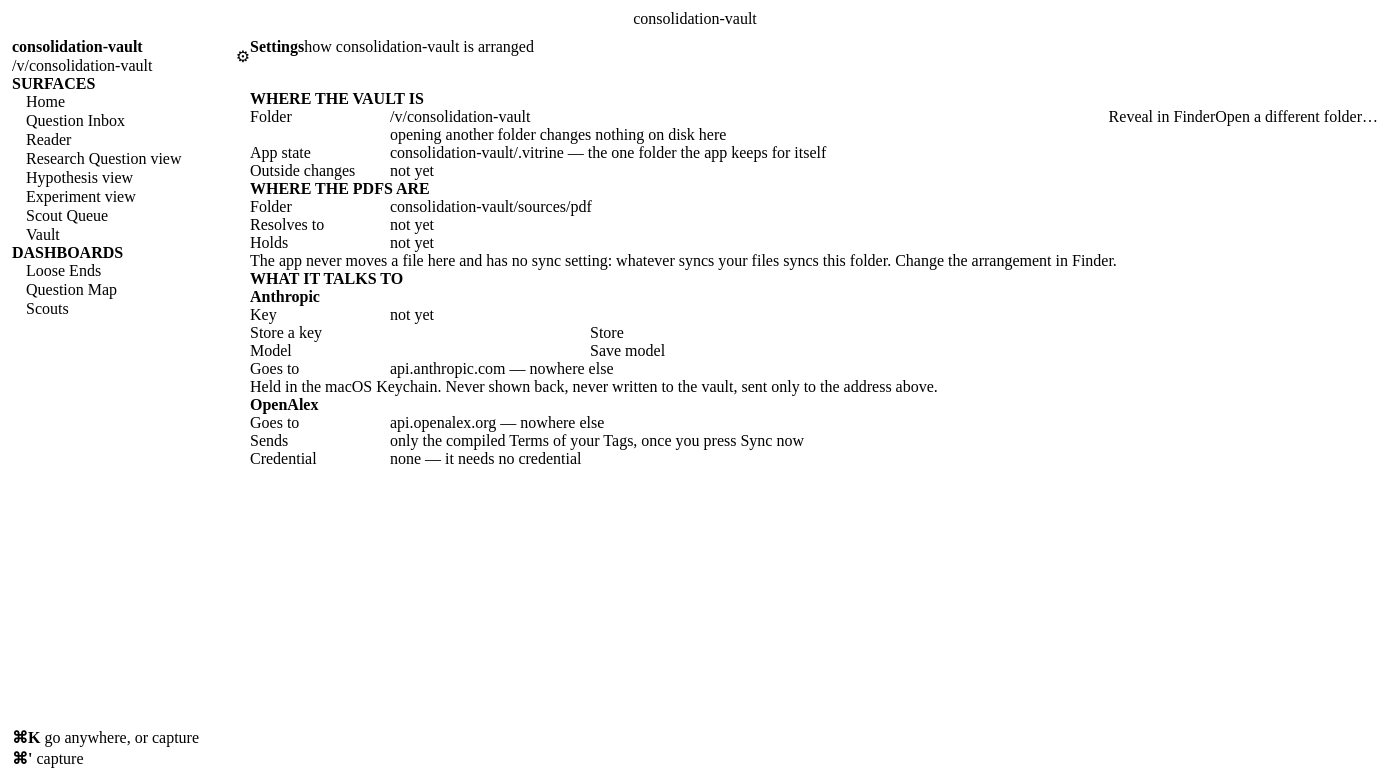
Test: Open a different folder… › says why a folder was refused, and stays where it was
Click the button "Open a different folder…": (1297, 117) x1=1215 y1=108 x2=1378 y2=126
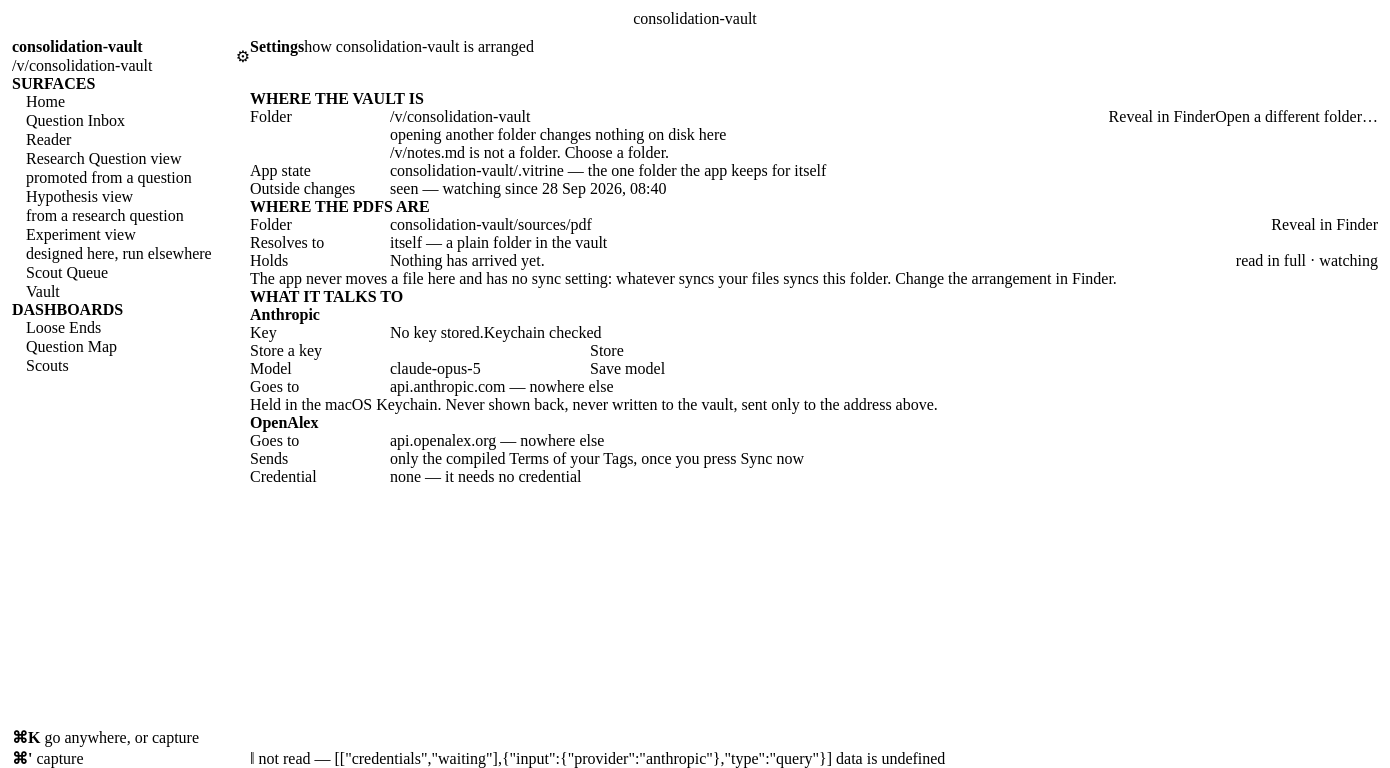
Expected: the message "/v/notes.md is not a folder. Choose a folder." is shown, x1=390 y1=144 x2=669 y2=161
